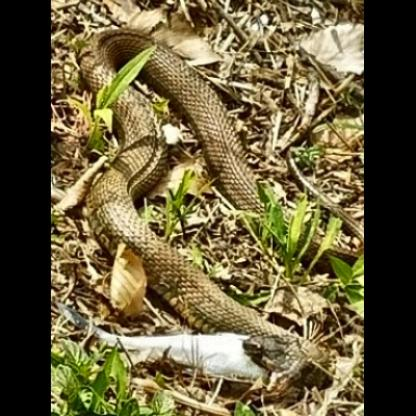Snake: (66, 20, 346, 336)
